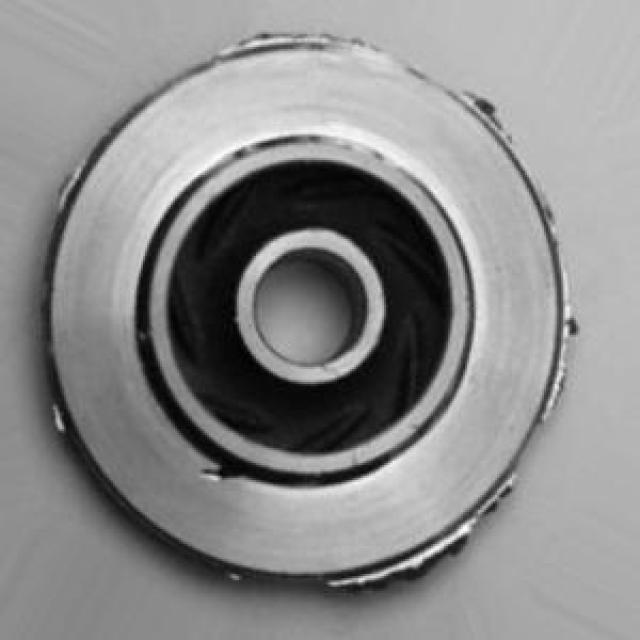Defect: (198, 453, 242, 488)
